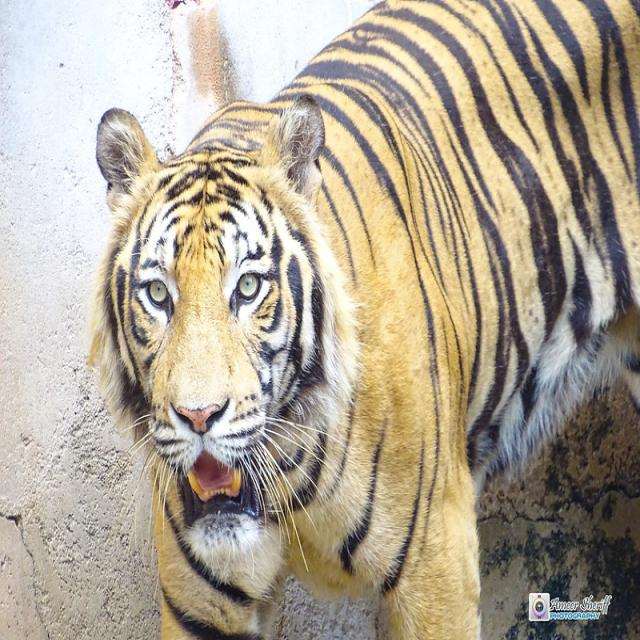Tiger: (95, 0, 640, 637)
